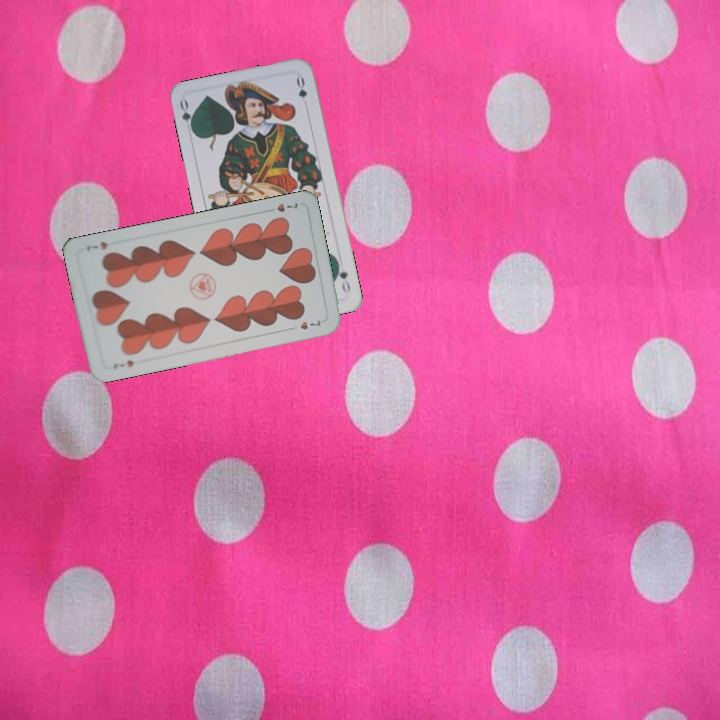GO: (175, 96, 197, 136), (333, 257, 353, 296)
H7: (262, 198, 301, 215), (109, 356, 136, 371)
